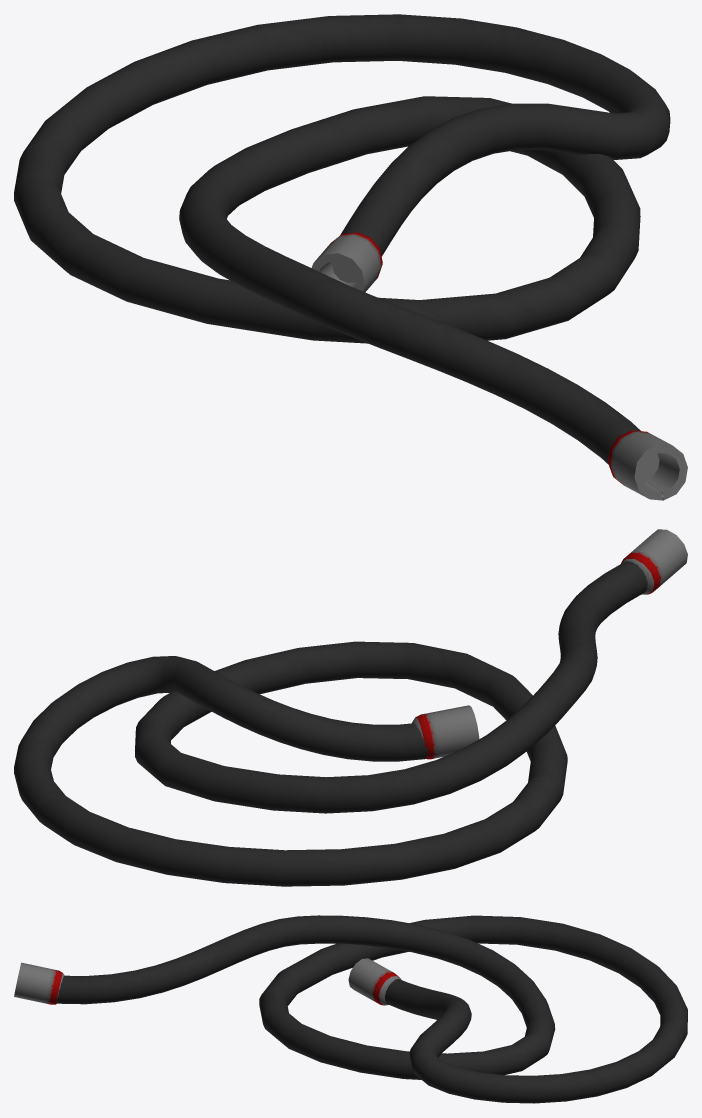
Rendered from Prop_Cable_1.gltf.
3 views of the same model, one above another, from view 1: azimuth 30°, elevation 25°; view 2: azimuth 150°, elevation 25°; view 3: azimuth 270°, elevation 25° (orthographic). The views are drawn at different scales.
Parts seen in each view (by area): view 1: Prop_Cable_1; view 2: Prop_Cable_1; view 3: Prop_Cable_1.
Part boxes in pixels (left/top/right/bottom): Prop_Cable_1: left=14, top=14, right=687, bottom=500; Prop_Cable_1: left=14, top=529, right=687, bottom=886; Prop_Cable_1: left=14, top=915, right=687, bottom=1103.
Bounding box in the file's own units: 1.02 × 0.1482 × 1.65.
2 materials, 2 textured.
